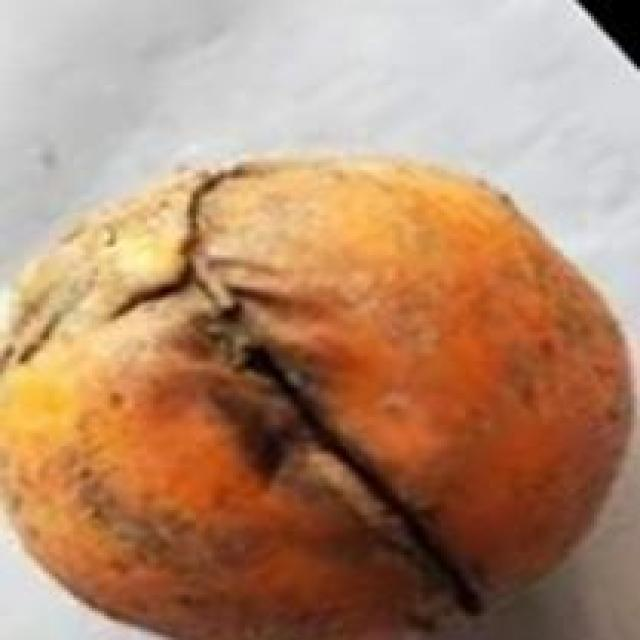damaged: (0, 154, 631, 637)
